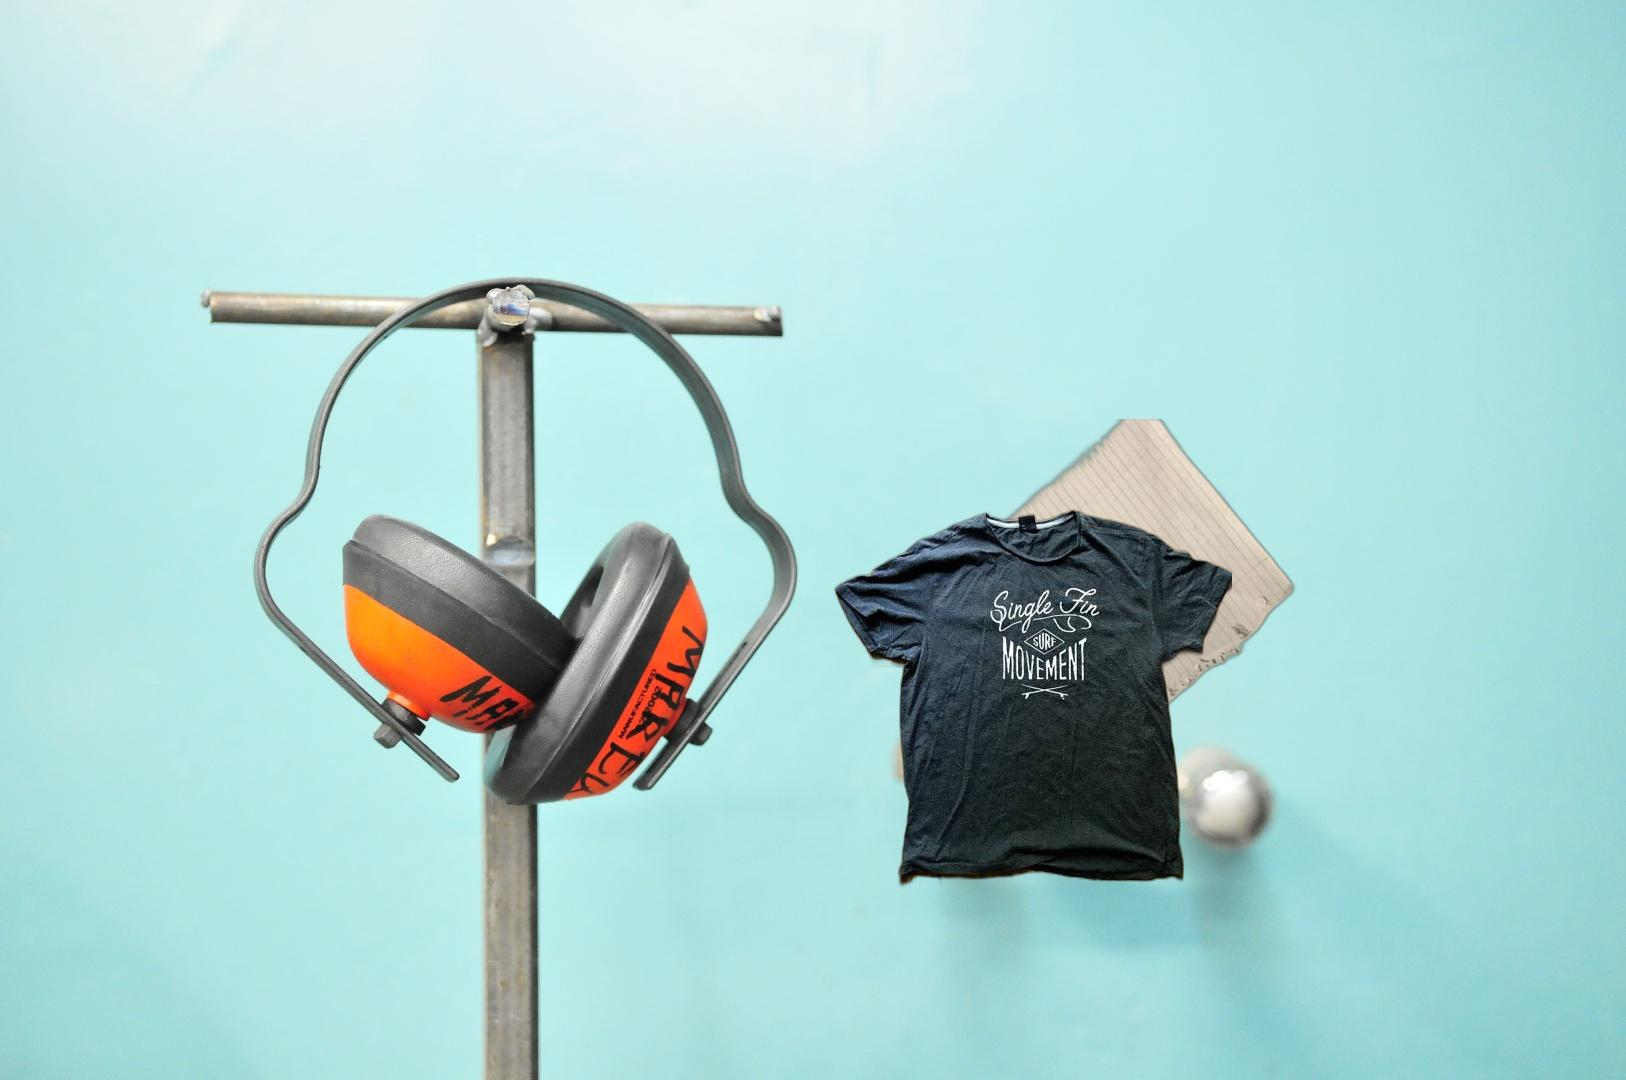clothes: (832, 506, 1232, 891)
paper: (918, 419, 1299, 803)
